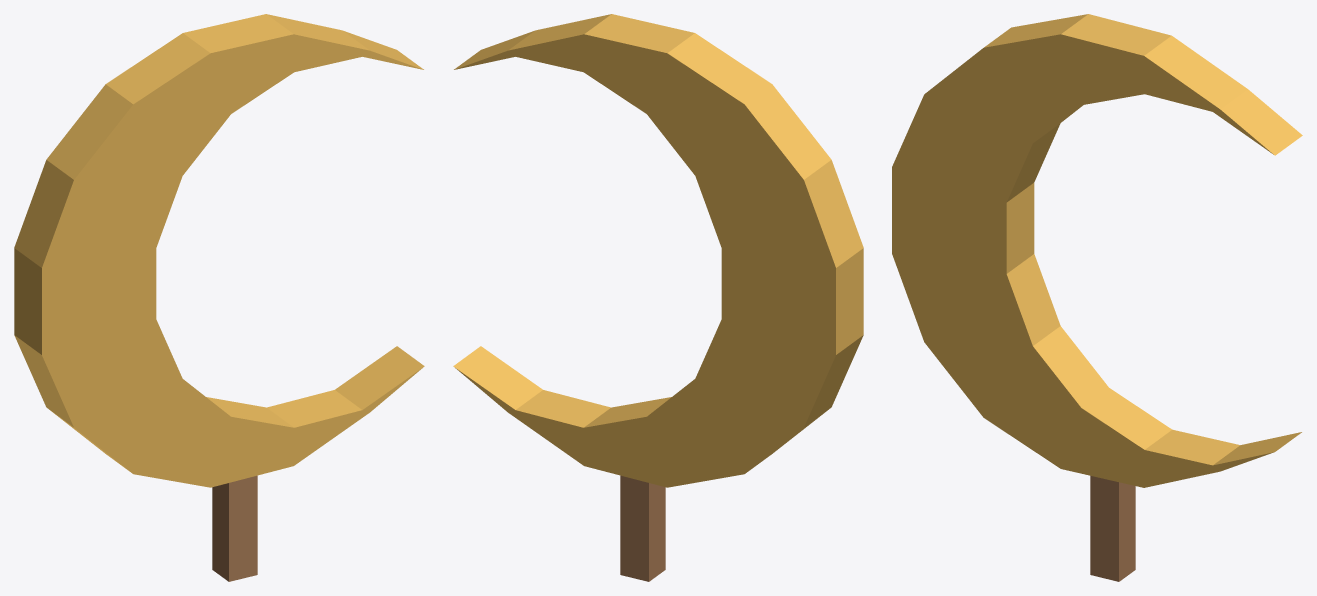
Rendered from deco_crescent_moon.obj.
3 renders of one model, left to right at view 1: azimuth 30°, elevation 25°; view 2: azimuth 150°, elevation 25°; view 3: azimuth 330°, elevation 25°, orthographic.
Visible parts, largest first — view 1: deco_crescent_moon; view 2: deco_crescent_moon; view 3: deco_crescent_moon.
Part boxes in pixels (bbox=[...]): deco_crescent_moon: bbox=[14, 14, 424, 581]; deco_crescent_moon: bbox=[453, 14, 863, 581]; deco_crescent_moon: bbox=[892, 14, 1302, 581].
Bounding box in the file's own units: 0.0399 × 0.0536 × 0.005.
Materials: 1 (1 with a texture image).
